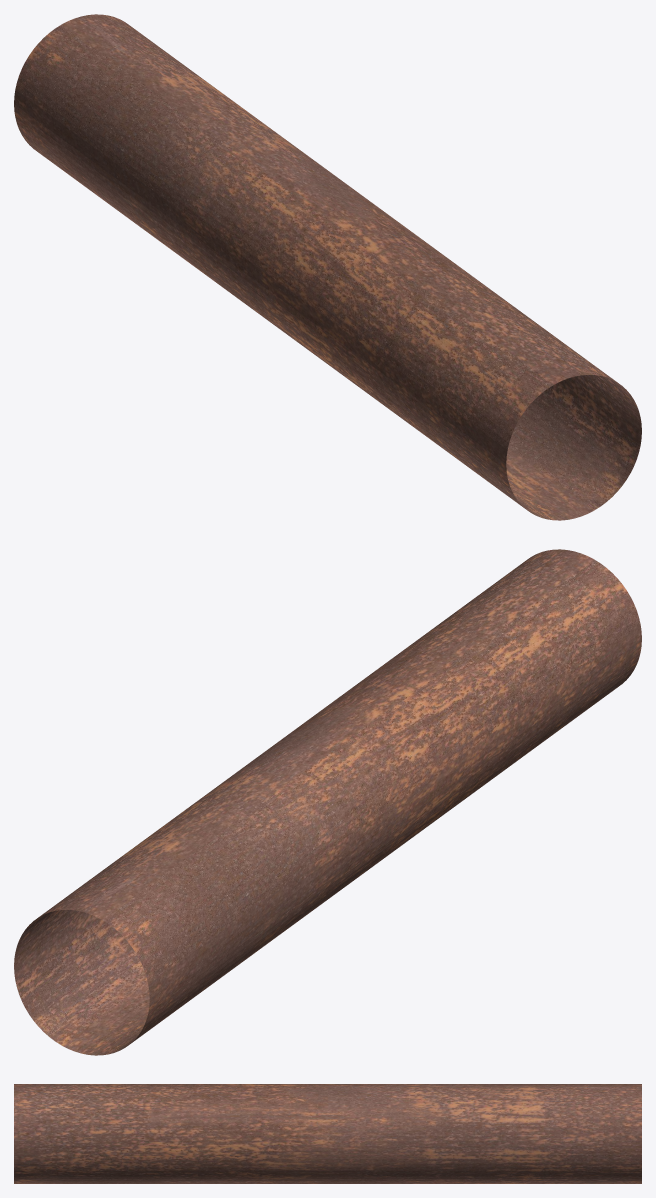
3 views of the same model, one above another, from view 1: azimuth 30°, elevation 25°; view 2: azimuth 150°, elevation 25°; view 3: azimuth 270°, elevation 25° (orthographic). The views are drawn at different scales.
Parts seen in each view (by area): view 1: 柱体.004; view 2: 柱体.004; view 3: 柱体.004.
Part boxes in pixels (<box>): 柱体.004: <box>14,14,641,520</box>; 柱体.004: <box>14,549,641,1055</box>; 柱体.004: <box>14,1084,641,1183</box>.
Size of the model in its own units: 1.75 by 1.75 by 11.
Materials: 1 (1 with a texture image).
